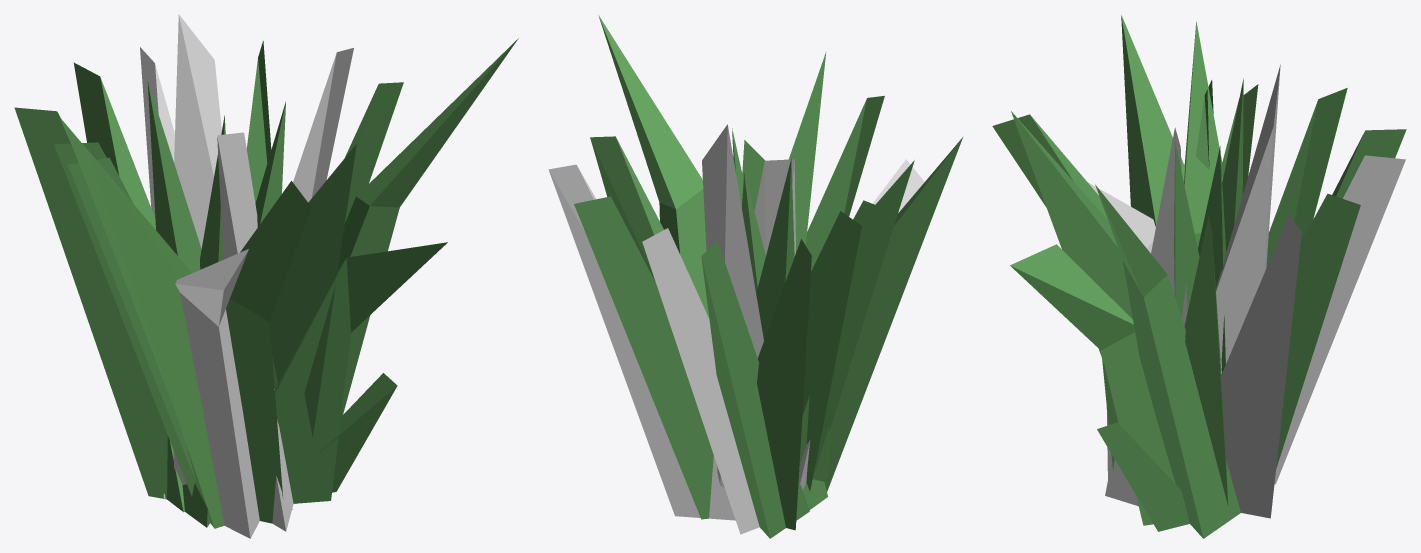
File: Grass 5.fbx
3 views of the same model, side by side, from view 1: azimuth 30°, elevation 25°; view 2: azimuth 150°, elevation 25°; view 3: azimuth 270°, elevation 25° (orthographic). The views are drawn at different scales.
Parts seen in each view (by area): view 1: grass.001; view 2: grass.001; view 3: grass.001.
Part boxes in pixels (x1,y1,x2,y2): grass.001: [14, 14, 518, 538]; grass.001: [548, 15, 962, 538]; grass.001: [992, 15, 1406, 538].
Size of the model in its own units: 108 by 112 by 99.07.
